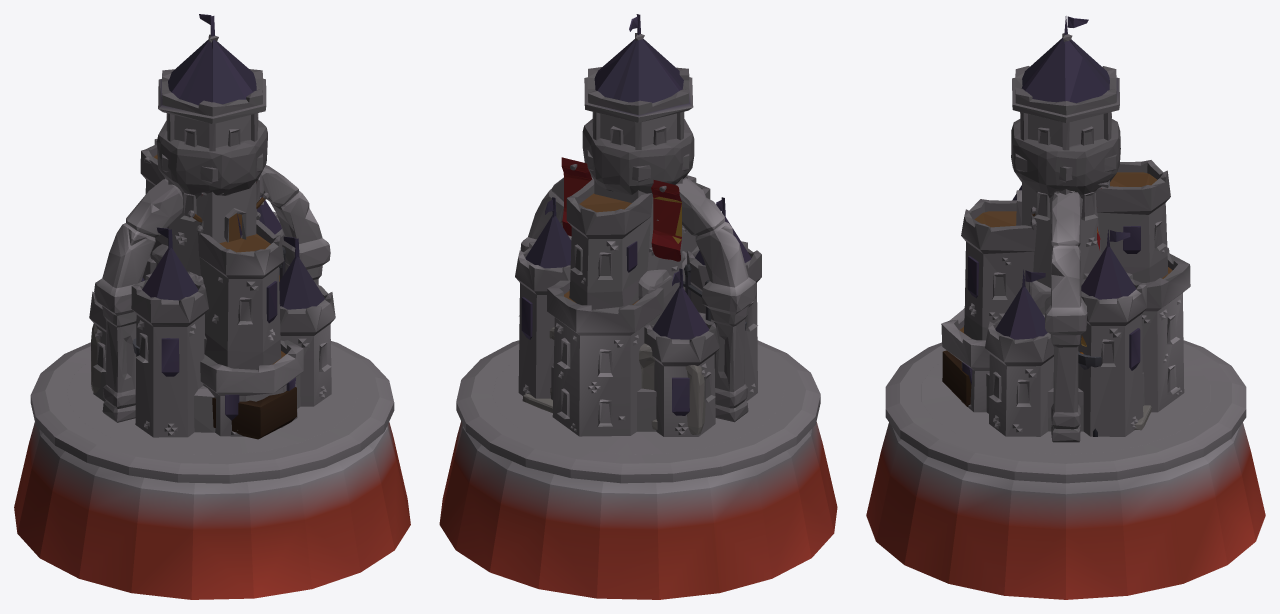
Rendered from fortress-s2-aI9Us0IK.glb.
3 renders of one model, left to right at view 1: azimuth 30°, elevation 25°; view 2: azimuth 150°, elevation 25°; view 3: azimuth 270°, elevation 25°, orthographic.
Parts seen in each view (by area): view 1: sc_tower_1, sc_z0_1, sc_z3_1, sc_z2_1, sc_z1_1; view 2: sc_tower_1, sc_z0_1, sc_z3_1, sc_z2_1, sc_z1_1; view 3: sc_tower_1, sc_z0_1, sc_z3_1, sc_z2_1, sc_z1_1.
Boxes of the visible parts, x1,y1,x2,y2 form: sc_tower_1: [14, 14, 410, 599]; sc_z0_1: [30, 165, 394, 483]; sc_z3_1: [67, 244, 357, 454]; sc_z2_1: [132, 120, 279, 355]; sc_z1_1: [91, 323, 296, 439]; sc_tower_1: [439, 14, 837, 599]; sc_z0_1: [456, 177, 820, 483]; sc_z3_1: [492, 251, 784, 454]; sc_z2_1: [561, 119, 746, 330]; sc_z1_1: [522, 327, 705, 434]; sc_tower_1: [866, 16, 1265, 599]; sc_z0_1: [885, 192, 1246, 483]; sc_z3_1: [921, 280, 1210, 454]; sc_z2_1: [1011, 119, 1120, 436]; sc_z1_1: [942, 350, 1151, 430].
Size of the model in its own units: 13.6 by 18.8 by 13.6.
